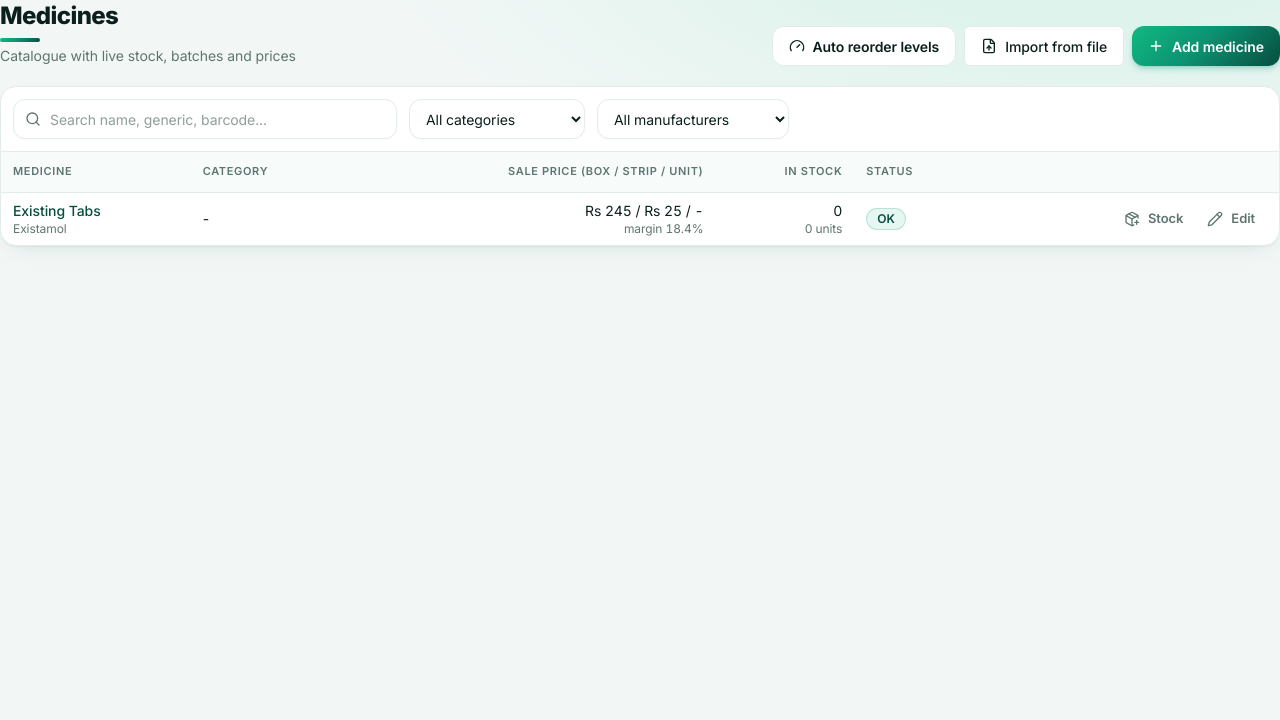
Test: minimum and maximum stock › an existing medicine keeps its own strip price and shows it as typed
The image size is (1280, 720).
Click the button "Edit" at [1231, 219], box [1195,203,1267,235]
(page scrolled)
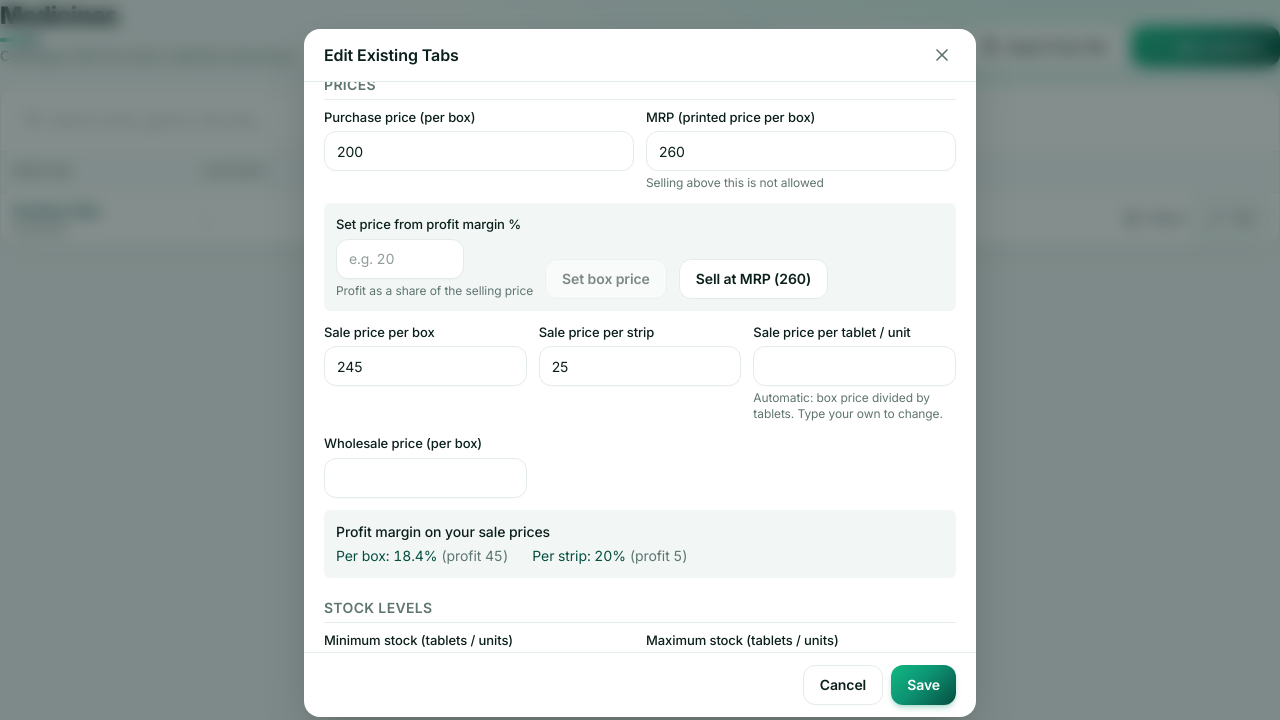
Check: the number field labelled "Sale price per strip" holds "25", box [539,346,741,386]
Replace the text in the number field labelled "Sale price per box" with "300" at [425, 366], box [324,346,527,386]
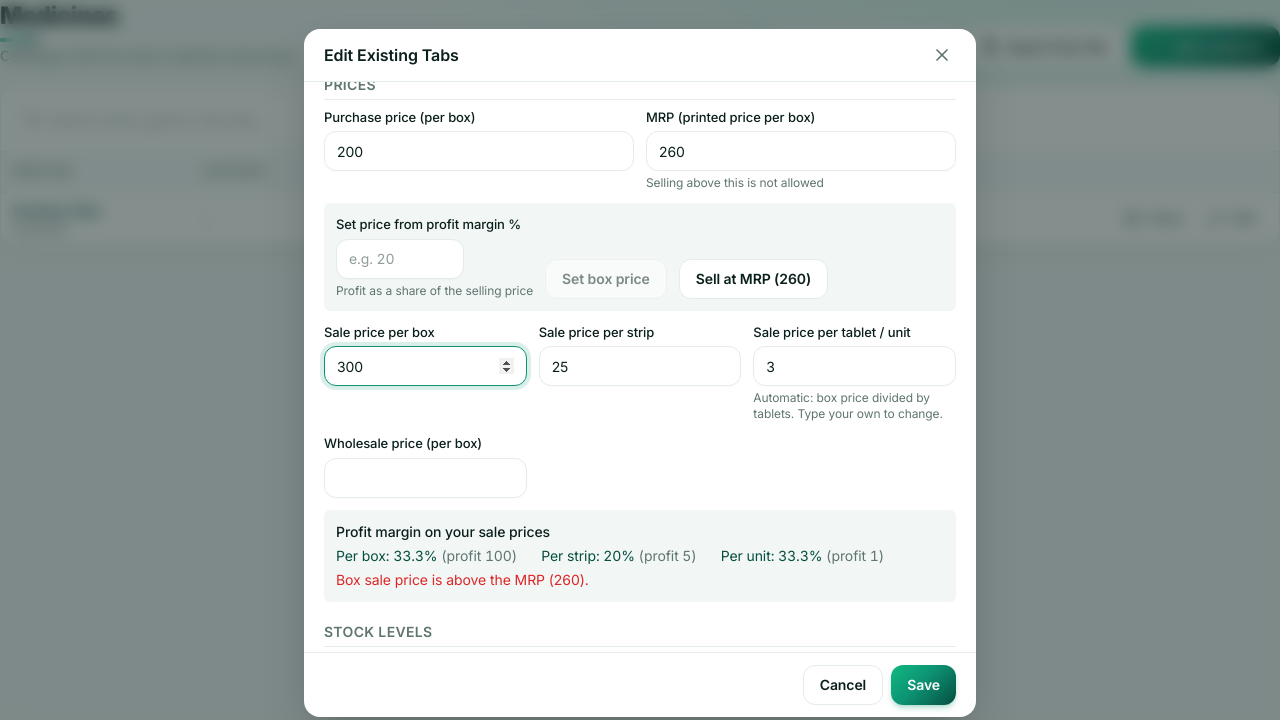
Check: the number field labelled "Sale price per strip" holds "25", box [539,346,741,386]
Check: the number field labelled "Sale price per tablet" holds "3", box [753,346,956,386]
